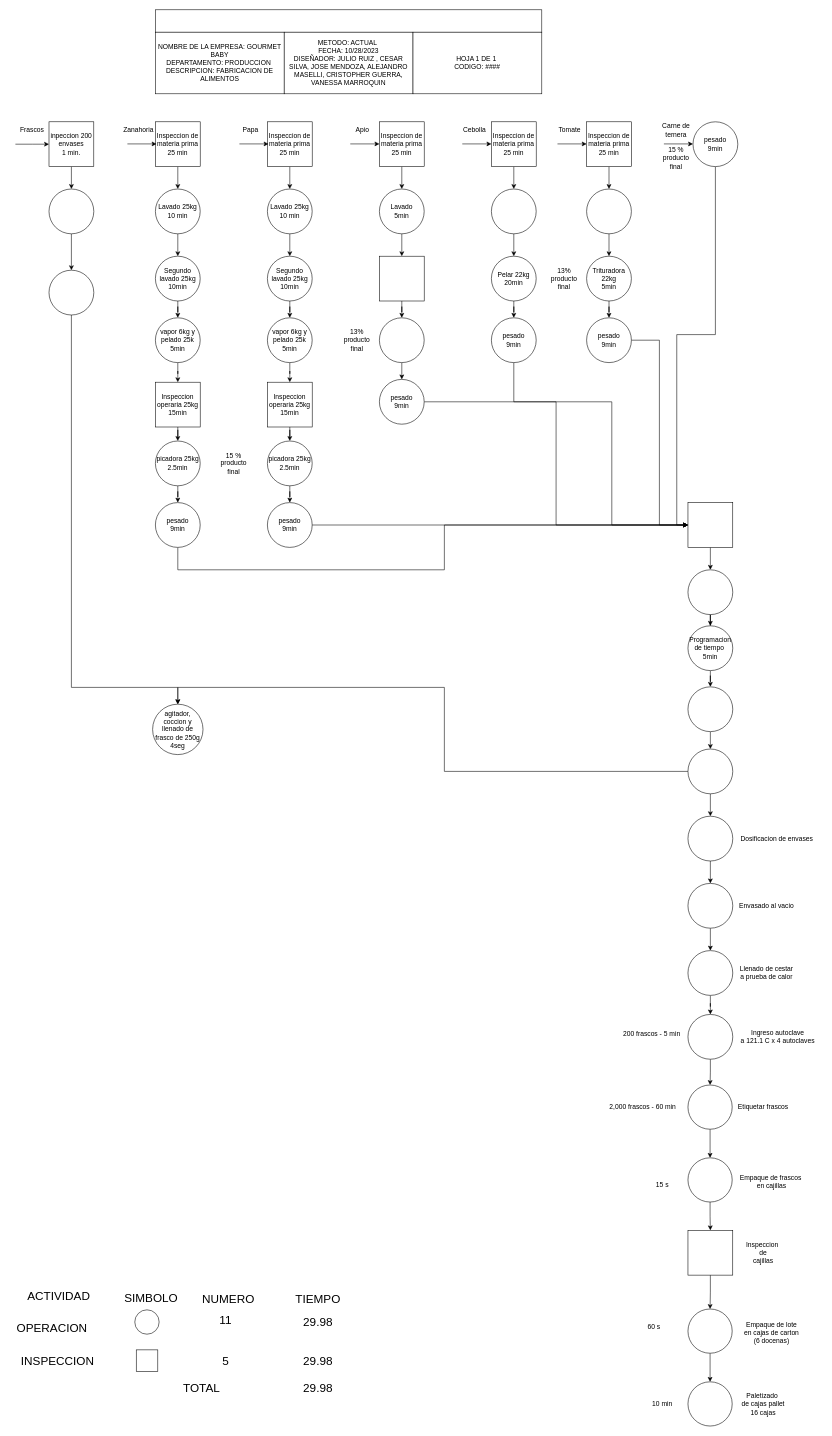
This 832x1436 diagram has some shape labels left out. The box of each missing label's shape, as (x1, y1, x2, y2) in pixels:
4000 frascos de 250g por sabor (5): (48, 270, 94, 315)
añadir 3% aceite y 13% de agua: (687, 569, 733, 615)
Cocinado zanahoria con ternera 60min: (687, 686, 733, 732)
DIAGRAMA DE OPERACIONES DE PROCESO (DOP): (155, 9, 542, 32)
Inspeccion control de calidad: (687, 502, 733, 547)
inspeccion en banda y corte de 11kg de hojas 6 min.: (379, 256, 424, 301)
Lavado 200 envases 1 min: (48, 188, 94, 234)
Lavado 20min: (586, 188, 631, 234)
Limpieza y pelado 22kg 10 min: (491, 188, 536, 234)
picadora 22kg 5min: (379, 317, 424, 363)
Registro de lote en bitacora 3min: (687, 748, 733, 794)
